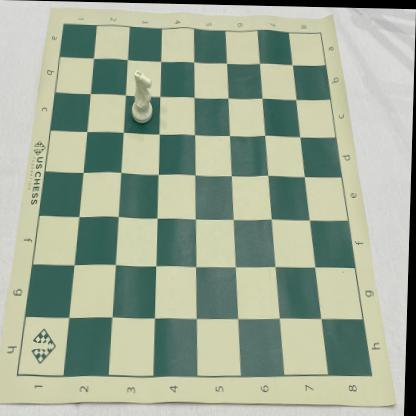white-knight: (131, 68, 155, 124)
